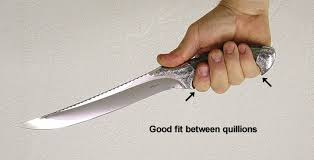knife: (15, 39, 281, 138)
